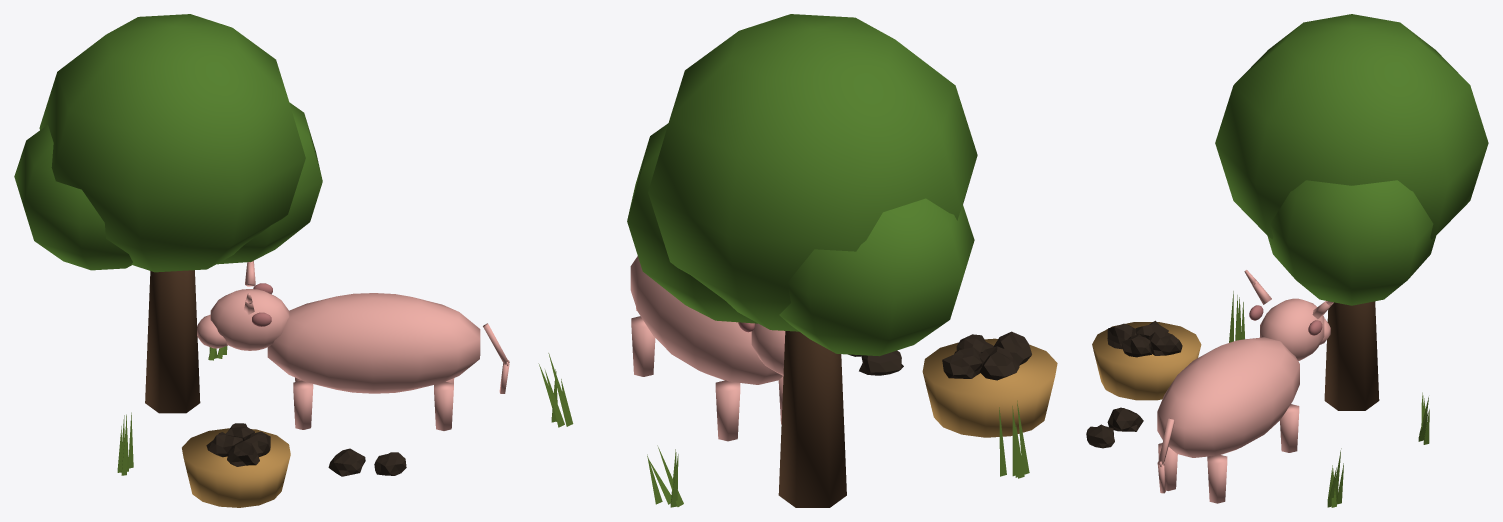
The model's file is resource_truffles.fbx.
The picture shows the model from 3 angles, left to right: view 1: azimuth 30°, elevation 25°; view 2: azimuth 150°, elevation 25°; view 3: azimuth 270°, elevation 25°; orthographic projection. The views are drawn at different scales.
Visible parts, largest first — view 1: resource_truffles_leaf#4f7a28_01, resource_truffles_fur#e8a8a0_02, resource_truffles_wood#4a3220_00, resource_truffles_basket.001_05, resource_truffles_truffle_06, resource_truffles_fur#e8a8a0.001_03, resource_truffles_grass#5a7a2a_07; view 2: resource_truffles_leaf#4f7a28_01, resource_truffles_fur#e8a8a0_02, resource_truffles_wood#4a3220_00, resource_truffles_basket.001_05, resource_truffles_truffle_06, resource_truffles_grass#5a7a2a_07; view 3: resource_truffles_leaf#4f7a28_01, resource_truffles_fur#e8a8a0_02, resource_truffles_wood#4a3220_00, resource_truffles_basket.001_05, resource_truffles_truffle_06, resource_truffles_grass#5a7a2a_07, resource_truffles_fur#e8a8a0.001_03.
Boxes of the visible parts, x1,y1,x2,y2 form: resource_truffles_leaf#4f7a28_01: [14, 14, 322, 272]; resource_truffles_fur#e8a8a0_02: [210, 289, 509, 430]; resource_truffles_wood#4a3220_00: [145, 270, 200, 413]; resource_truffles_basket.001_05: [182, 428, 290, 507]; resource_truffles_truffle_06: [206, 423, 406, 476]; resource_truffles_fur#e8a8a0.001_03: [197, 260, 255, 348]; resource_truffles_grass#5a7a2a_07: [117, 346, 227, 475]; resource_truffles_leaf#4f7a28_01: [627, 14, 977, 356]; resource_truffles_fur#e8a8a0_02: [630, 256, 785, 441]; resource_truffles_wood#4a3220_00: [778, 331, 846, 507]; resource_truffles_basket.001_05: [922, 338, 1057, 437]; resource_truffles_truffle_06: [848, 331, 1031, 380]; resource_truffles_grass#5a7a2a_07: [538, 353, 1029, 507]; resource_truffles_leaf#4f7a28_01: [1215, 14, 1488, 305]; resource_truffles_fur#e8a8a0_02: [1157, 298, 1324, 503]; resource_truffles_wood#4a3220_00: [1324, 301, 1379, 410]; resource_truffles_basket.001_05: [1092, 322, 1201, 400]; resource_truffles_truffle_06: [1086, 320, 1182, 448]; resource_truffles_grass#5a7a2a_07: [1229, 291, 1429, 507]; resource_truffles_fur#e8a8a0.001_03: [1244, 270, 1333, 344].
Bounding box in the file's own units: 94.49 × 90.59 × 88.25.
